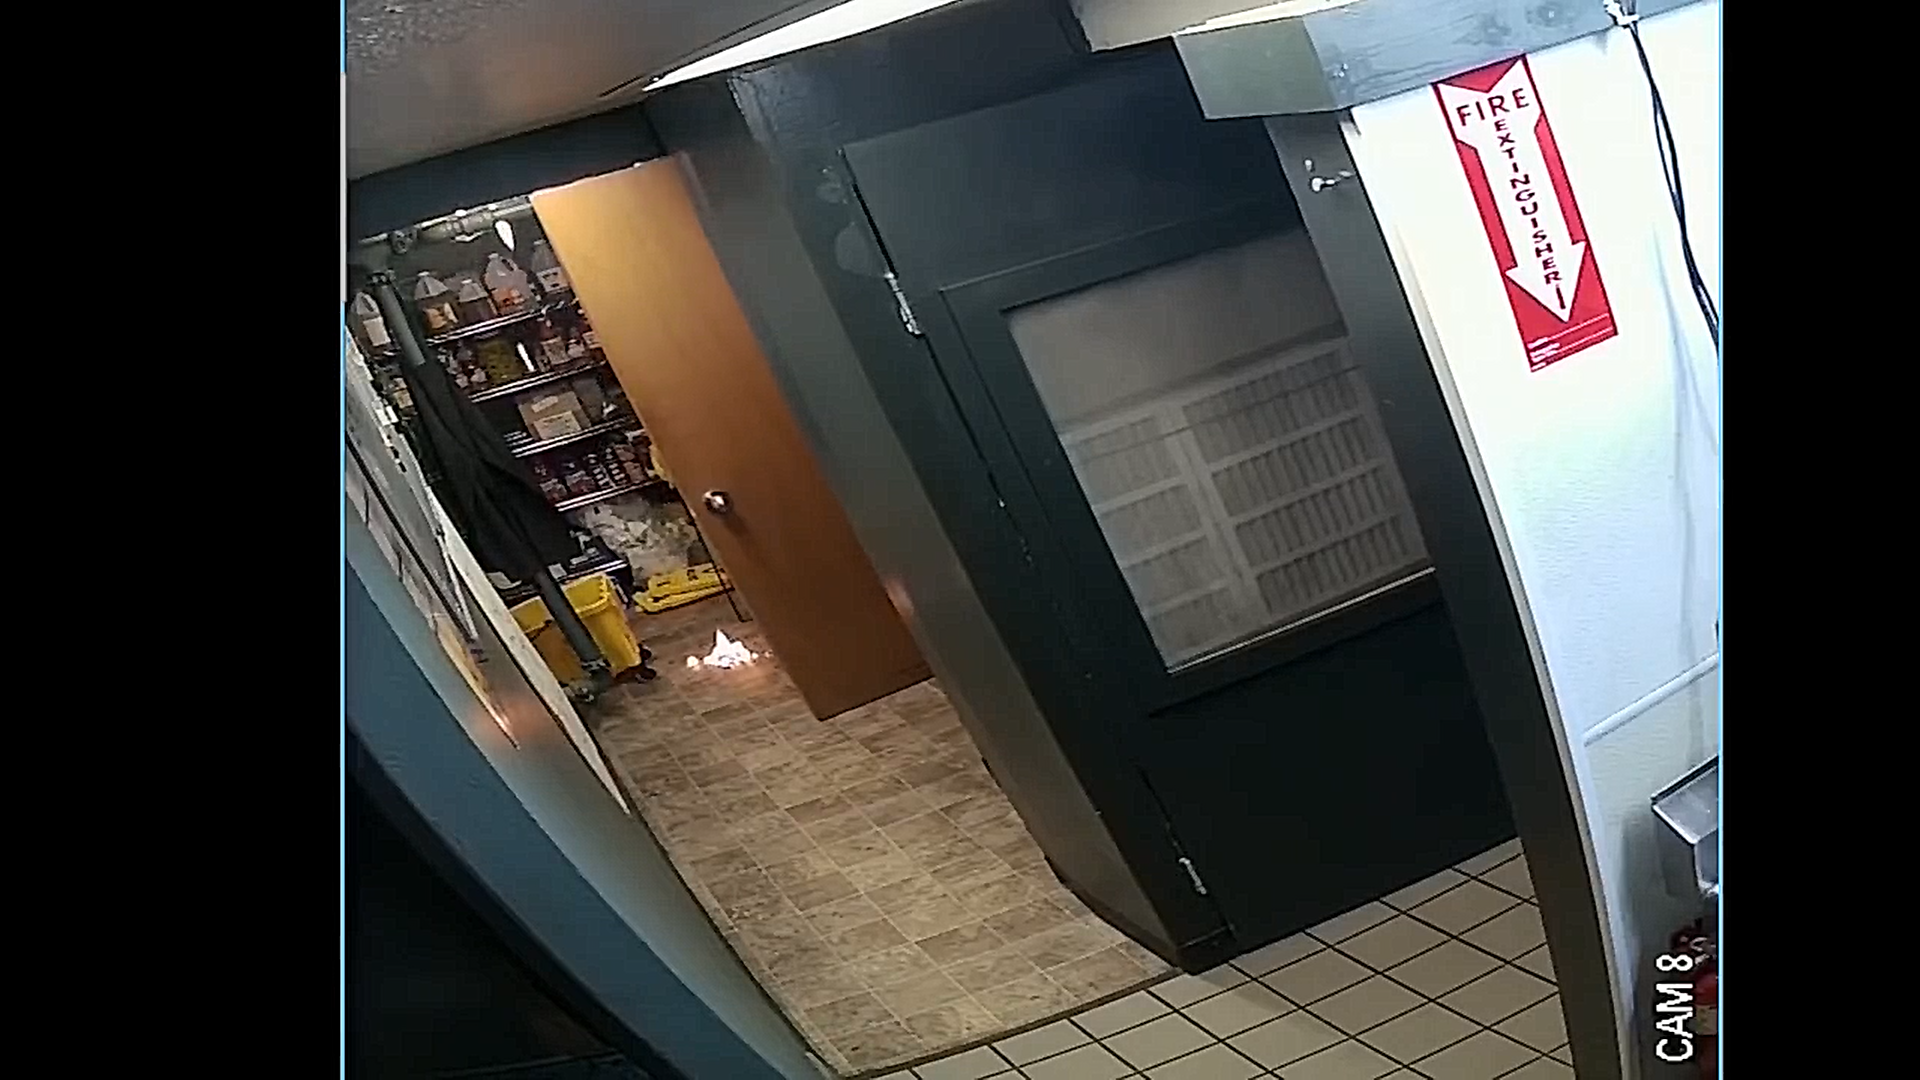fire: (674, 626, 775, 676)
